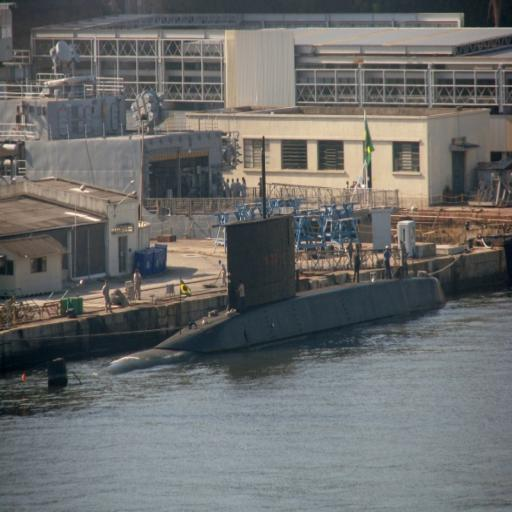submarine: (48, 213, 446, 393)
